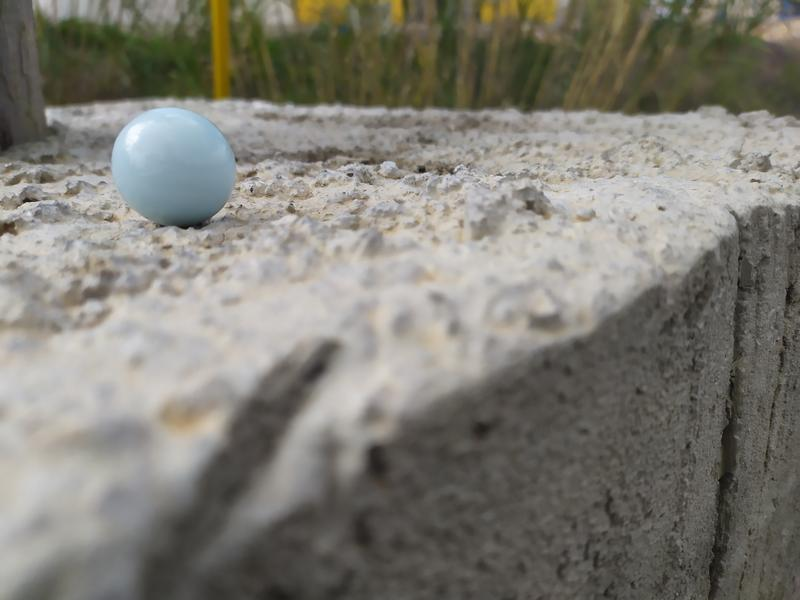Warning: (108, 105, 241, 233)
